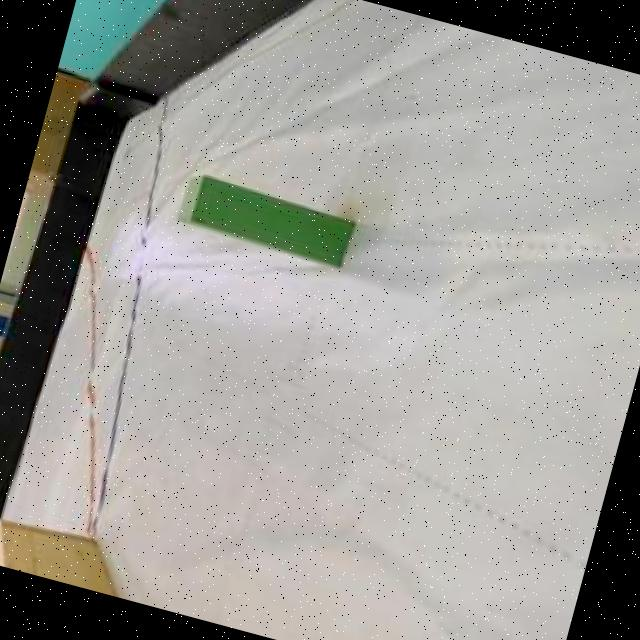greenbox: (174, 170, 354, 264)
